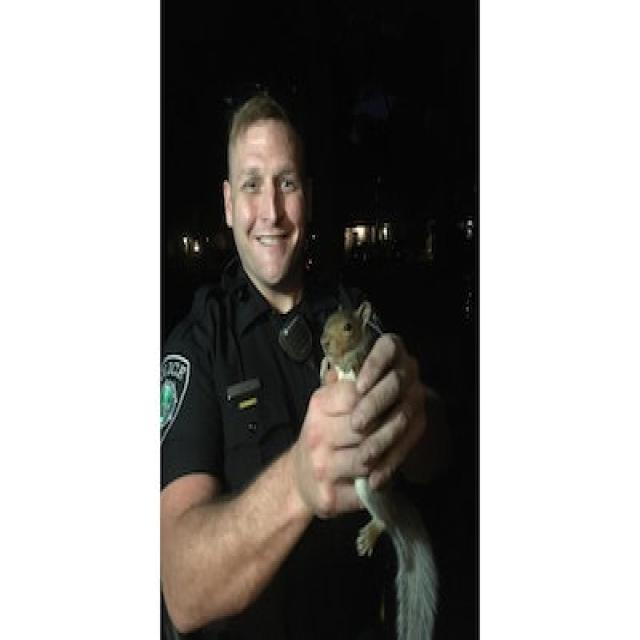police: (158, 64, 351, 640)
